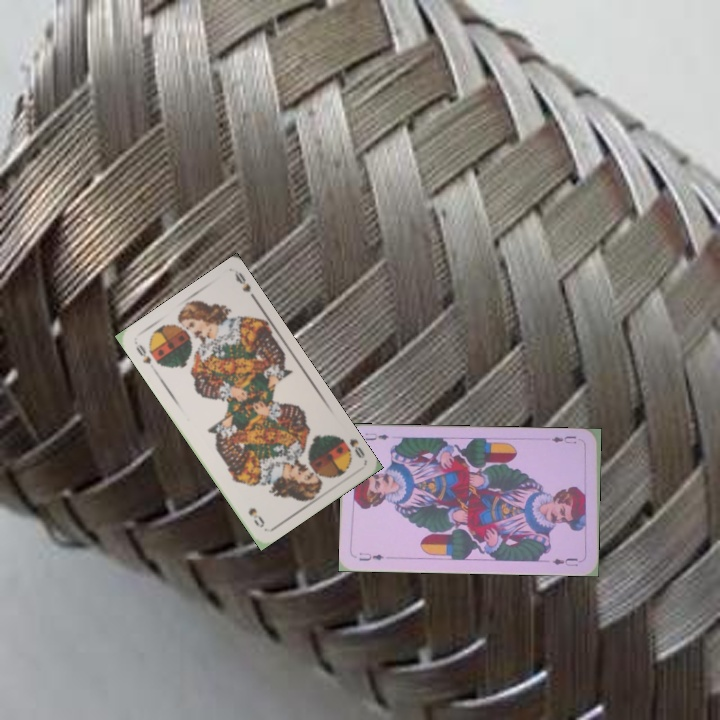EU: (547, 432, 579, 446), (355, 549, 386, 563)
SO: (334, 432, 367, 461), (132, 341, 154, 367)
